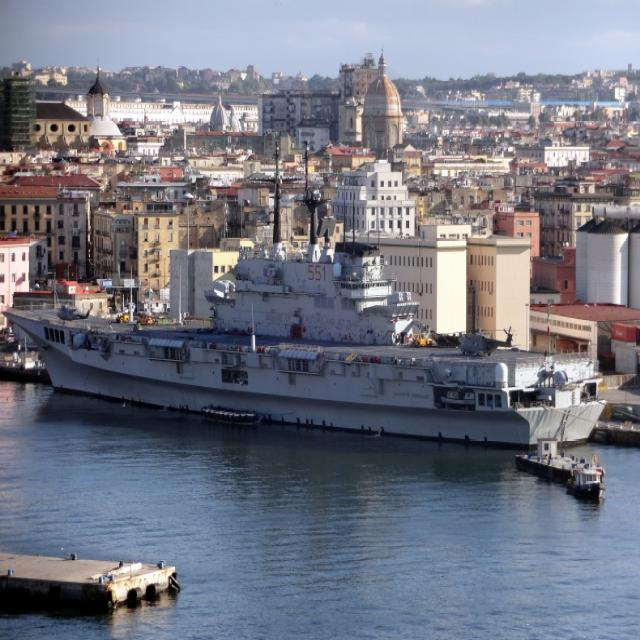Portanaves: (1, 152, 610, 455)
